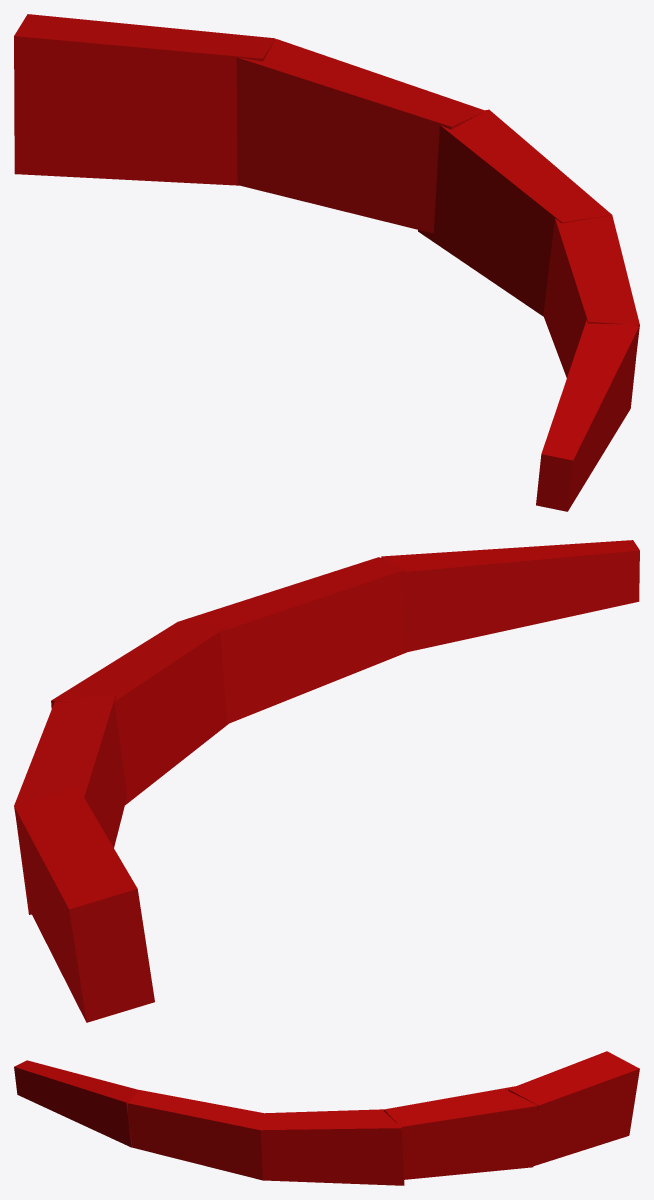
Rendered from SM_Prop_Whale_Skeleton_Rib_01_Collision.gltf.
3 renders of one model, top to bottom at view 1: azimuth 30°, elevation 25°; view 2: azimuth 150°, elevation 25°; view 3: azimuth 270°, elevation 25°, orthographic. The views are drawn at different scales.
Visible parts, largest first — view 1: SM_Prop_Whale_Skeleton_Rib_01_Collision; view 2: SM_Prop_Whale_Skeleton_Rib_01_Collision; view 3: SM_Prop_Whale_Skeleton_Rib_01_Collision.
Part boxes in pixels (bbox=[...]): SM_Prop_Whale_Skeleton_Rib_01_Collision: bbox=[14, 14, 639, 511]; SM_Prop_Whale_Skeleton_Rib_01_Collision: bbox=[14, 540, 639, 1022]; SM_Prop_Whale_Skeleton_Rib_01_Collision: bbox=[14, 1051, 639, 1185].
Size of the model in its own units: 1.43 by 0.6704 by 4.84.
